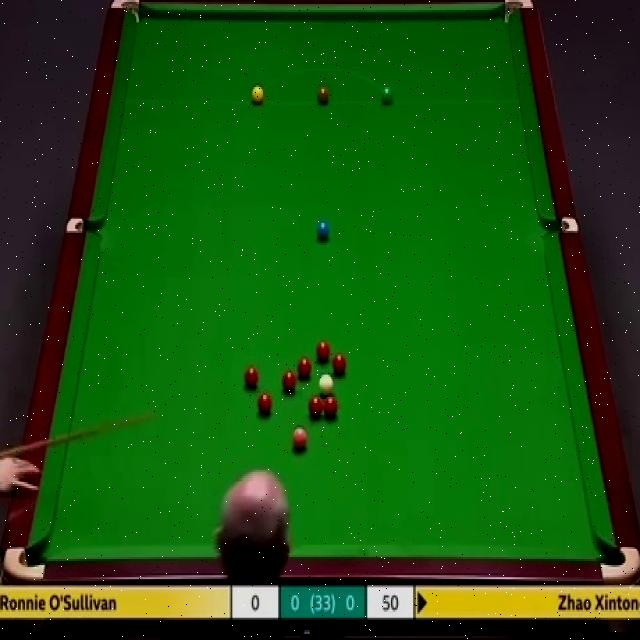blue-ball: (316, 220, 329, 240)
brown-ball: (316, 84, 330, 105)
green-ball: (380, 85, 395, 106)
pink-ball: (291, 424, 309, 450)
red-ball: (243, 364, 260, 390), (297, 357, 313, 380), (281, 371, 297, 394), (256, 392, 272, 415), (332, 352, 347, 376), (309, 395, 323, 419), (324, 396, 338, 420), (315, 340, 330, 362)
white-ball: (318, 372, 333, 397)
yellow-ball: (250, 83, 264, 104)
